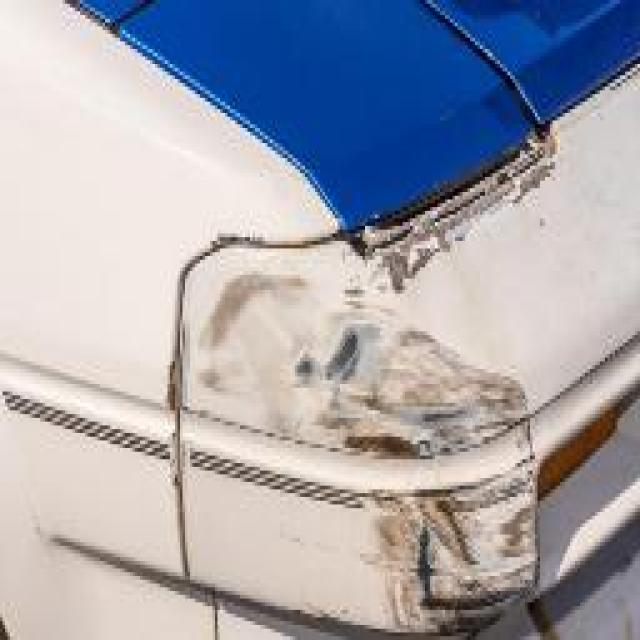Bumper: (120, 184, 638, 640)
